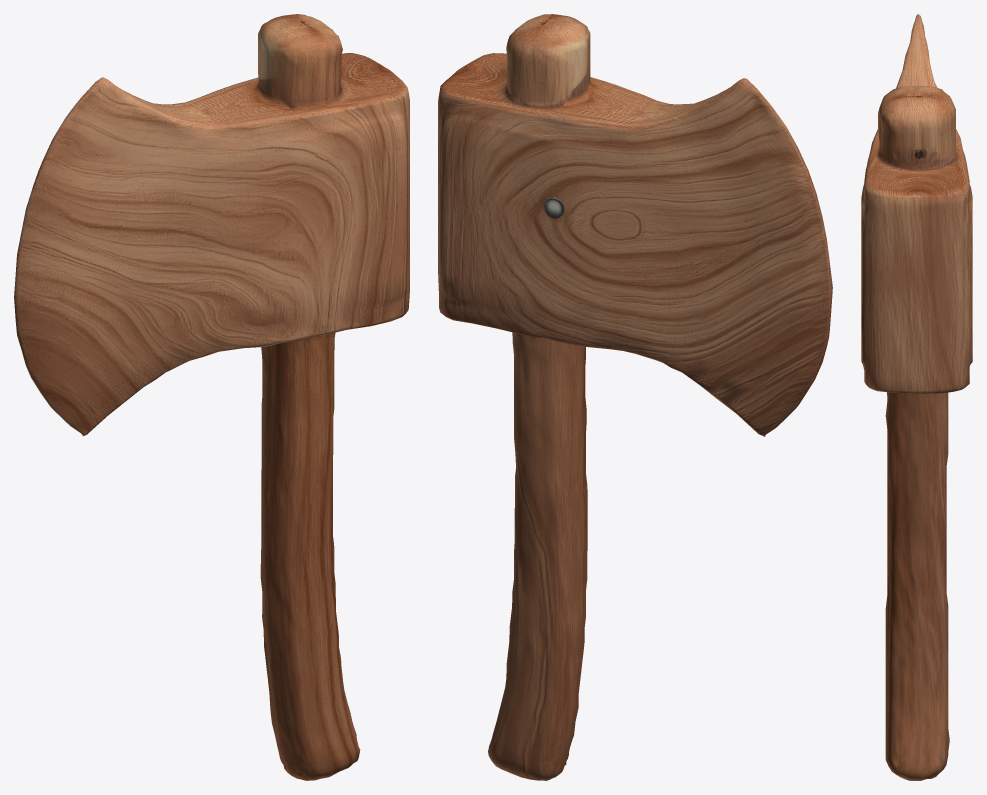
The model's file is Axe_Wood.fbx.
3 views of the same model, side by side, from view 1: azimuth 30°, elevation 25°; view 2: azimuth 150°, elevation 25°; view 3: azimuth 270°, elevation 25° (orthographic). The views are drawn at different scales.
Visible parts, largest first — view 1: Mesh_0; view 2: Mesh_0; view 3: Mesh_0.
Boxes of the visible parts, box(x1,y1,x2,y2) form: Mesh_0: box(14, 14, 409, 780); Mesh_0: box(438, 14, 832, 780); Mesh_0: box(861, 14, 972, 780).
Bounding box in the file's own units: 99.8 × 191 × 28.57.
Materials: 1 (1 with a texture image).
